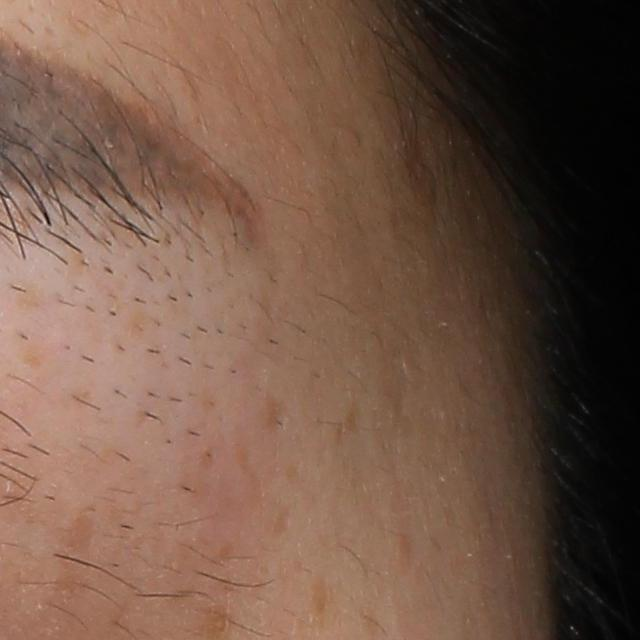melasma: (227, 423, 276, 504), (305, 571, 335, 620)
